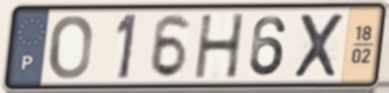1: (113, 12, 139, 83)
6: (147, 12, 193, 81), (249, 14, 288, 78)
H: (193, 11, 247, 81)
O: (48, 13, 95, 82)
X: (291, 11, 346, 80)
